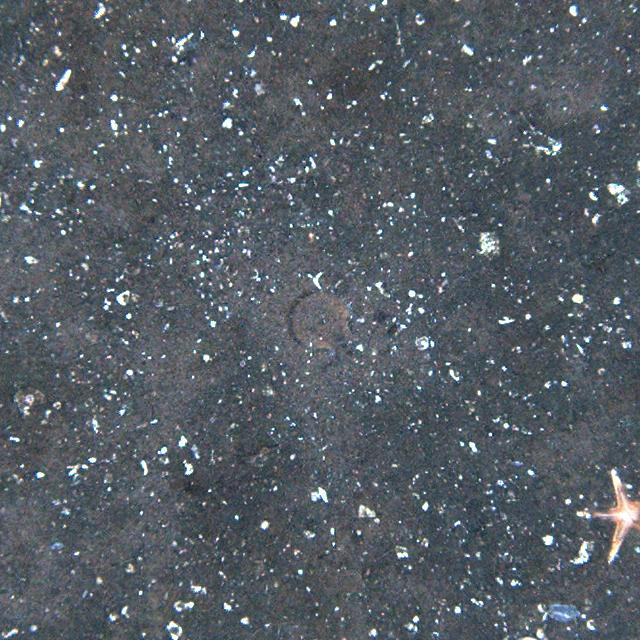scallop: (286, 286, 360, 355)
